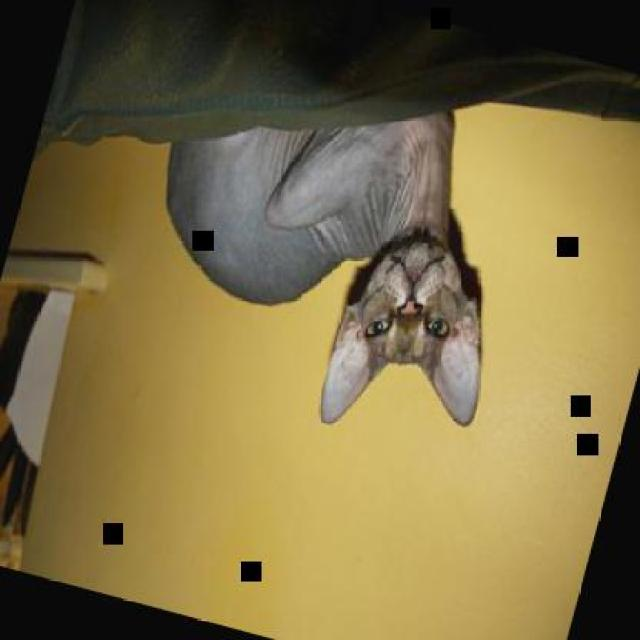cat: (110, 45, 548, 463)
